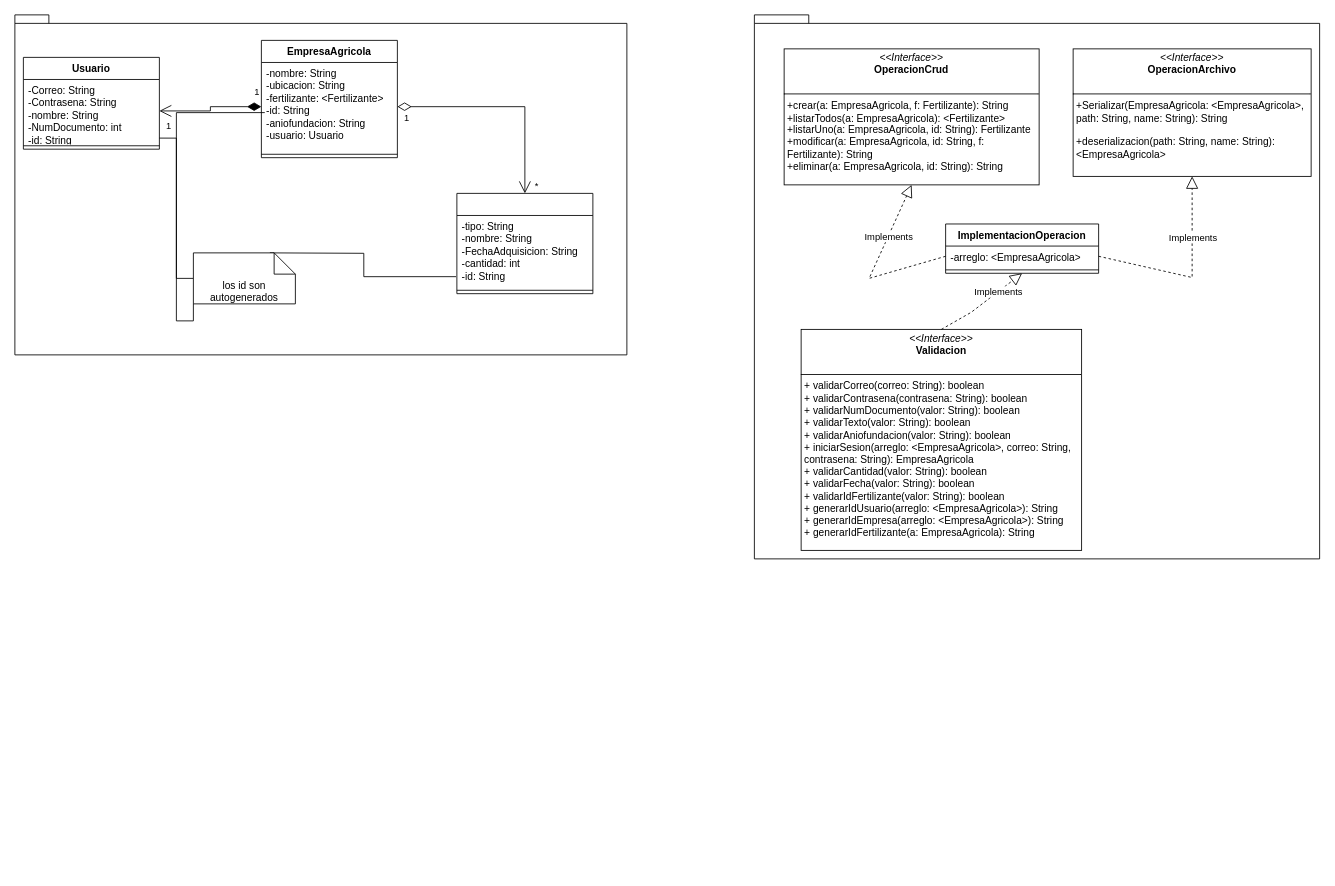
Image size: 1335x886. Some labels were removed from this diagram. The box of each missing label's shape, as (x1, y1, x2, y2) in pixels:
co.edu.poli.ProyectoParadigmasAlvaroySaray.model: (14, 14, 627, 355)
co.edu.poli.ProyectoParadigmasAlvaroySaray.Servicio: (754, 14, 1320, 559)
Fertilizante: (456, 193, 593, 294)
